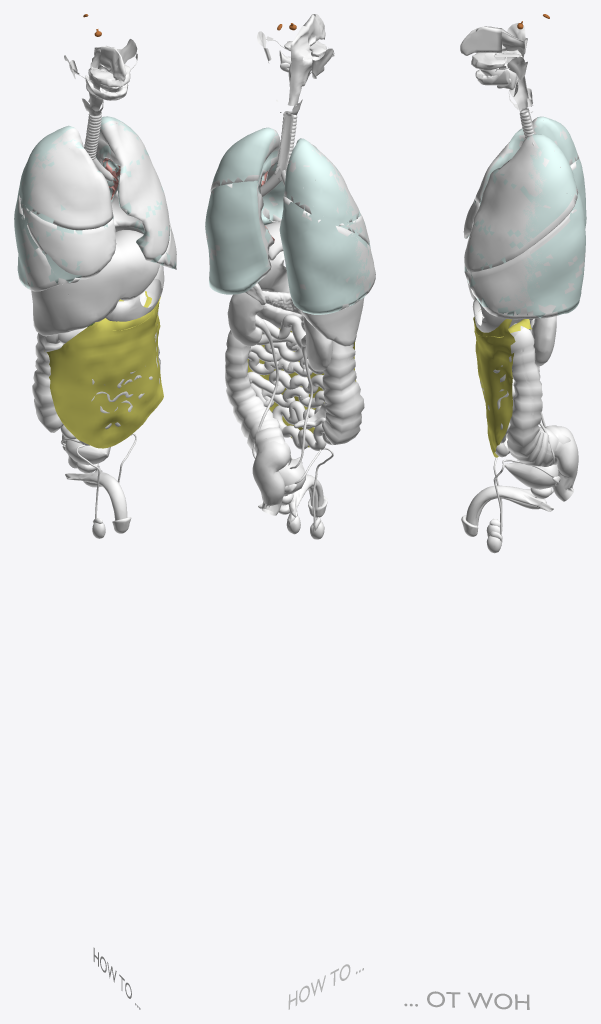
File: dottir-organs.glb
3 views of the same model, side by side, from view 1: azimuth 30°, elevation 25°; view 2: azimuth 150°, elevation 25°; view 3: azimuth 270°, elevation 25° (orthographic). The views are drawn at different scales.
Parts seen in each view (by area): view 1: Greater omentum, Liver, Superior lobe of right lung, Superior lobe of left lung, Pleura, Middle lobe of right lung, Ascending colon, Inferior lobe of right lung, Stomach, Corpus cavernosum of penis, Inferior lobe of left lung, Gingiva (+4 smaller); view 2: Pleura, Jejunum, Ascending colon, Descending colon, Sigmoid colon, Liver, Kidney.l, Inferior lobe of right lung, Kidney.r, Superior lobe of left lung, Trachea, Stomach (+14 smaller); view 3: Pleura, Superior lobe of left lung, Descending colon, Inferior lobe of left lung, Greater omentum, Sigmoid colon, Corpus cavernosum of penis, Mucosa of nasal cavity, Urinary bladder, Kidney.l, Gingiva, HOW TO ... (+3 smaller).
Part boxes in pixels (bbox=[...]): Greater omentum: bbox=[44, 300, 163, 448]; Liver: bbox=[31, 230, 159, 336]; Superior lobe of right lung: bbox=[22, 128, 113, 230]; Superior lobe of left lung: bbox=[96, 120, 169, 261]; Pleura: bbox=[14, 116, 176, 288]; Middle lobe of right lung: bbox=[20, 197, 116, 279]; Ascending colon: bbox=[32, 333, 63, 432]; Inferior lobe of right lung: bbox=[18, 195, 81, 291]; Stomach: bbox=[106, 265, 164, 321]; Corpus cavernosum of penis: bbox=[65, 466, 127, 520]; Inferior lobe of left lung: bbox=[108, 186, 176, 269]; Gingiva: bbox=[85, 64, 130, 100]; Pleura: bbox=[205, 127, 371, 314]; Jejunum: bbox=[247, 319, 331, 450]; Ascending colon: bbox=[322, 341, 364, 445]; Descending colon: bbox=[225, 330, 291, 465]; Sigmoid colon: bbox=[252, 438, 290, 515]; Liver: bbox=[265, 221, 364, 346]; Kidney.l: bbox=[227, 292, 263, 346]; Inferior lobe of right lung: bbox=[282, 196, 375, 310]; Kidney.r: bbox=[303, 317, 332, 371]; Superior lobe of left lung: bbox=[210, 129, 281, 221]; Trachea: bbox=[274, 111, 297, 180]; Stomach: bbox=[258, 251, 289, 292]; Pleura: bbox=[464, 116, 586, 318]; Superior lobe of left lung: bbox=[464, 135, 578, 272]; Descending colon: bbox=[507, 327, 570, 466]; Inferior lobe of left lung: bbox=[464, 189, 585, 319]; Greater omentum: bbox=[473, 309, 515, 457]; Sigmoid colon: bbox=[553, 426, 578, 501]; Corpus cavernosum of penis: bbox=[466, 485, 553, 525]; Mucosa of nasal cavity: bbox=[460, 26, 505, 55]; Urinary bladder: bbox=[504, 462, 558, 489]; Kidney.l: bbox=[532, 316, 556, 366]; Gingiva: bbox=[471, 50, 509, 85]; HOW TO ...: bbox=[404, 991, 529, 1009].
Bounding box in the file's own units: 0.2618 × 1.67 × 0.2768.
